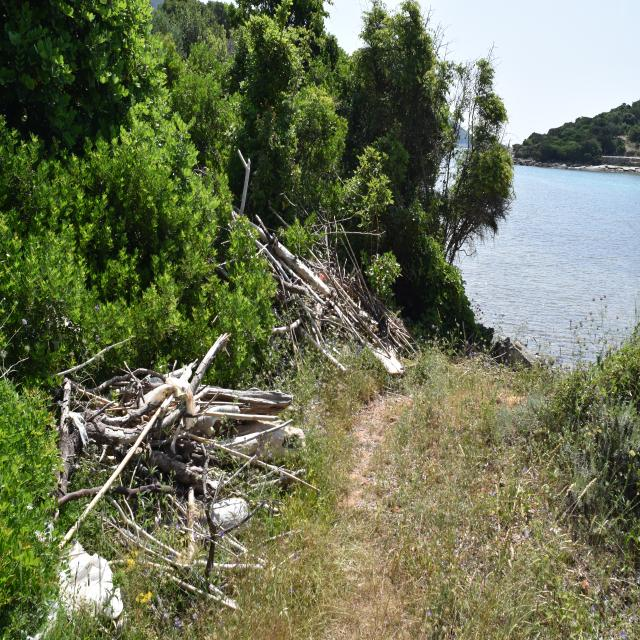lixo domiciliar: (57, 541, 125, 624)
restos de madeira: (61, 350, 315, 516), (274, 225, 421, 386), (93, 496, 252, 604), (237, 211, 300, 275), (56, 340, 136, 374), (183, 336, 229, 390), (237, 150, 251, 220)
